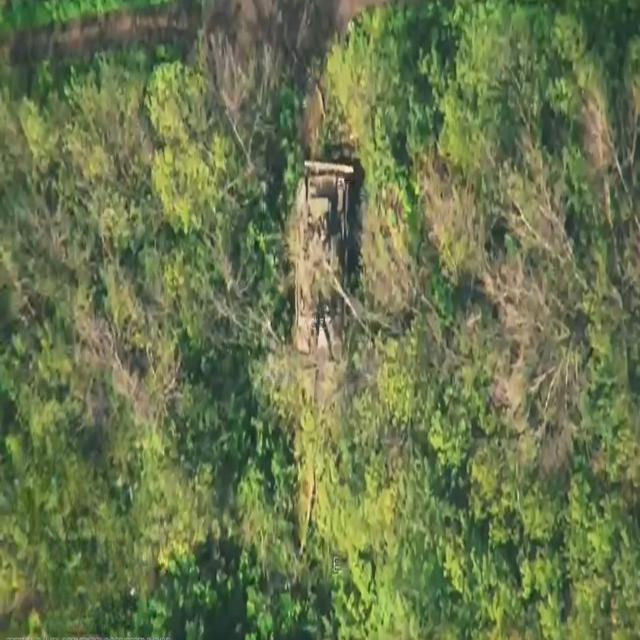MBT: (292, 169, 352, 392)
